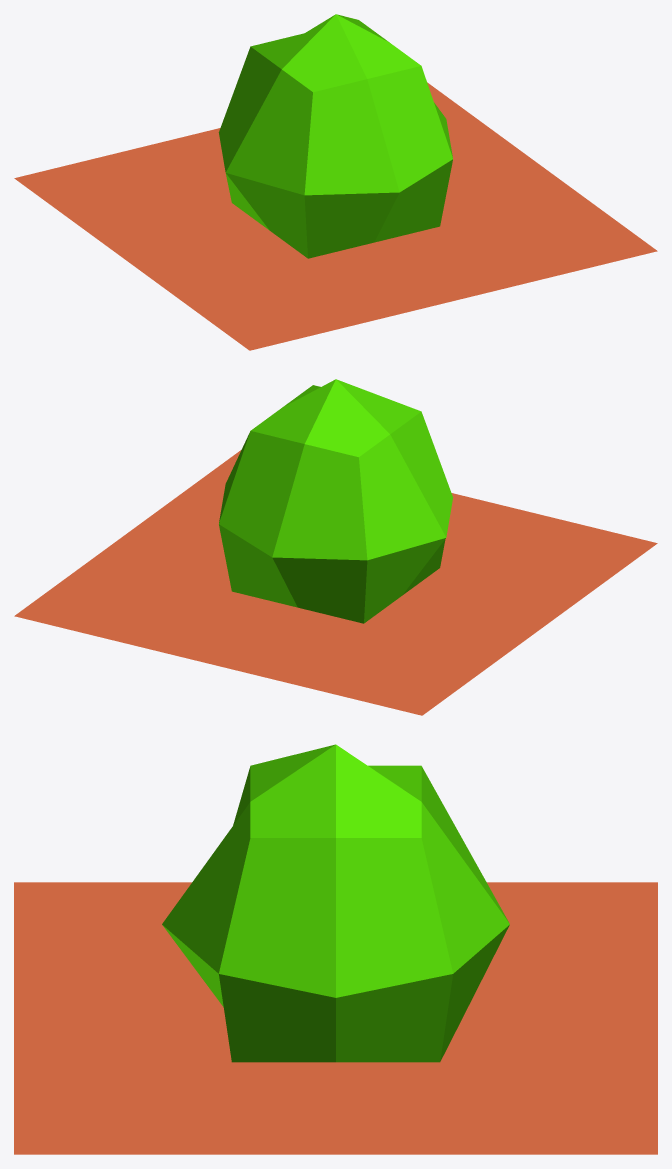
File: räriteten.glb
3 views of the same model, one above another, from view 1: azimuth 30°, elevation 25°; view 2: azimuth 150°, elevation 25°; view 3: azimuth 270°, elevation 25° (orthographic). The views are drawn at different scales.
Parts seen in each view (by area): view 1: Plane, high; view 2: Plane, high; view 3: Plane, high.
Boxes of the visible parts, bbox=[...] form: Plane: bbox=[14, 82, 657, 350]; high: bbox=[218, 14, 452, 258]; Plane: bbox=[14, 450, 657, 715]; high: bbox=[219, 379, 453, 623]; Plane: bbox=[14, 882, 657, 1154]; high: bbox=[162, 744, 509, 1062].
Size of the model in its own units: 2 by 0.9389 by 2.
